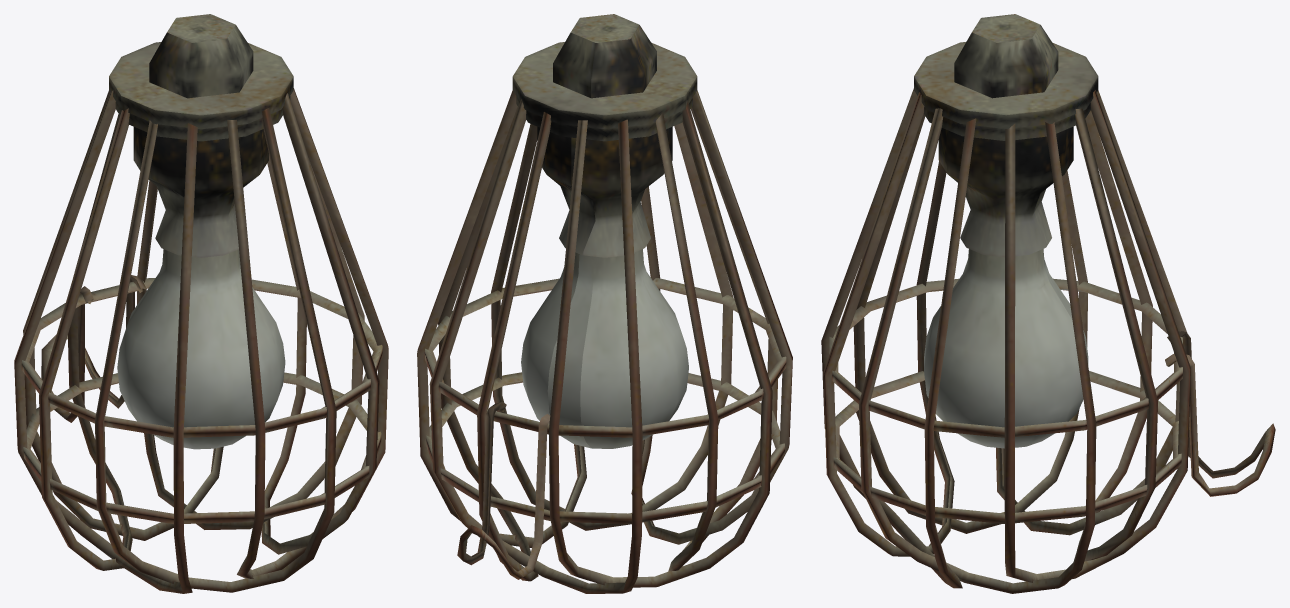
The model's file is hang_light_7.fbx.
3 views of the same model, side by side, from view 1: azimuth 30°, elevation 25°; view 2: azimuth 150°, elevation 25°; view 3: azimuth 270°, elevation 25° (orthographic).
Visible parts, largest first — view 1: hang_light_7; view 2: hang_light_7; view 3: hang_light_7.
Part boxes in pixels (x1,y1,x2,y2): hang_light_7: (14,14,388,593); hang_light_7: (417,14,792,593); hang_light_7: (821,14,1275,593).
Size of the model in its own units: 6.06 by 9.49 by 7.34.
Materials: 1 (1 with a texture image).
